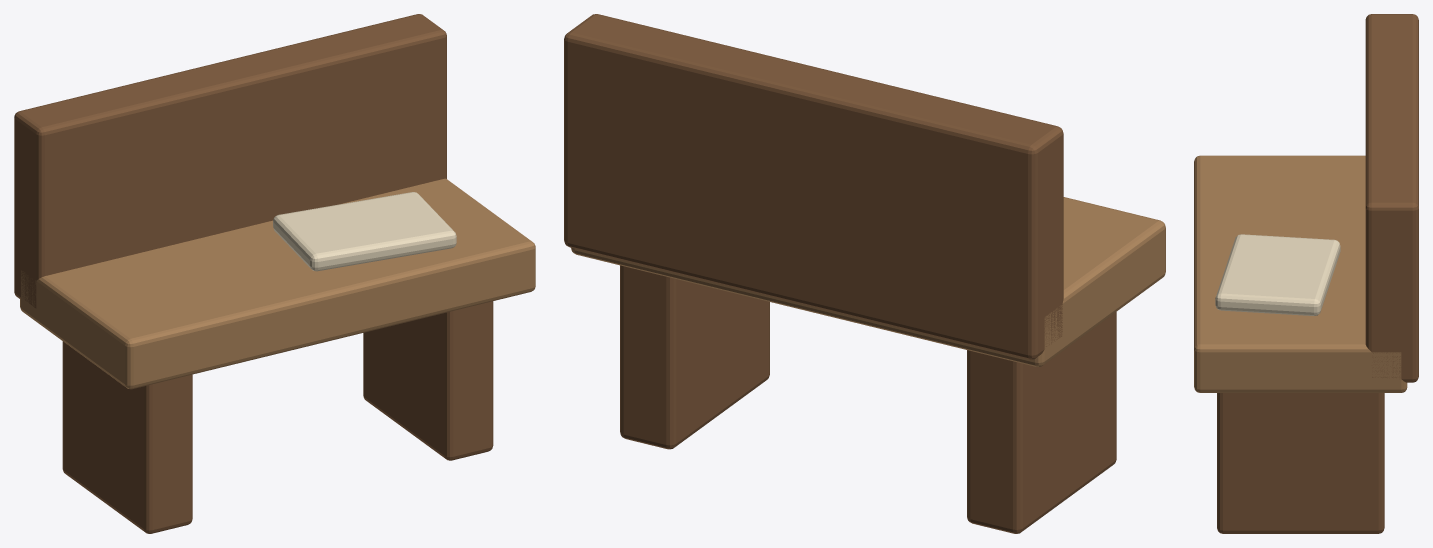
Rendered from woodland-reading-bench-01.glb.
3 views of the same model, side by side, from view 1: azimuth 30°, elevation 25°; view 2: azimuth 150°, elevation 25°; view 3: azimuth 270°, elevation 25° (orthographic). The views are drawn at different scales.
Visible parts, largest first — view 1: woodland-reading-bench-01; view 2: woodland-reading-bench-01; view 3: woodland-reading-bench-01.
Boxes of the visible parts, x1,y1,x2,y2 form: woodland-reading-bench-01: (14,14,535,533); woodland-reading-bench-01: (564,14,1165,533); woodland-reading-bench-01: (1194,14,1418,533).
Bounding box in the file's own units: 0.3 × 0.25 × 0.1475.
